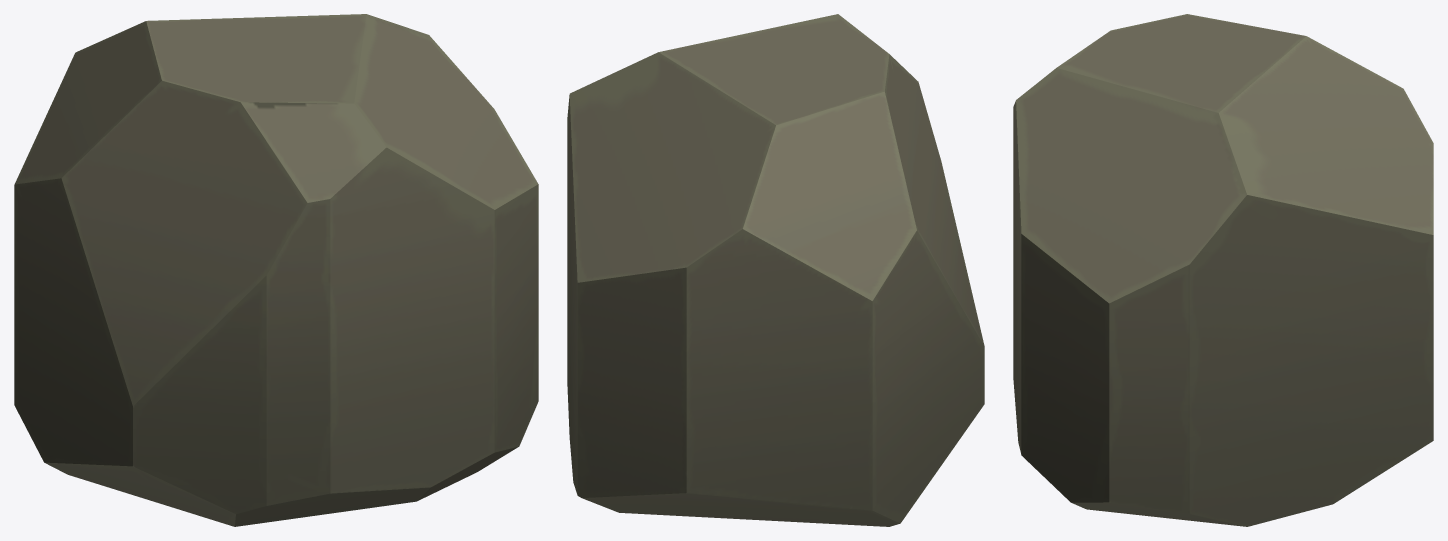
The model's file is Rock5.fbx.
3 views of the same model, side by side, from view 1: azimuth 30°, elevation 25°; view 2: azimuth 150°, elevation 25°; view 3: azimuth 270°, elevation 25° (orthographic). The views are drawn at different scales.
Parts seen in each view (by area): view 1: Cube.004; view 2: Cube.004; view 3: Cube.004.
Boxes of the visible parts, x1,y1,x2,y2 form: Cube.004: (14,14,538,526); Cube.004: (567,14,984,526); Cube.004: (1013,14,1433,526).
Size of the model in its own units: 218 by 215 by 216.
1 material, 1 textured.
